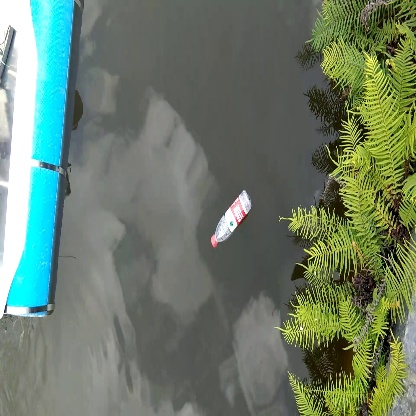bottle: (208, 185, 253, 259)
